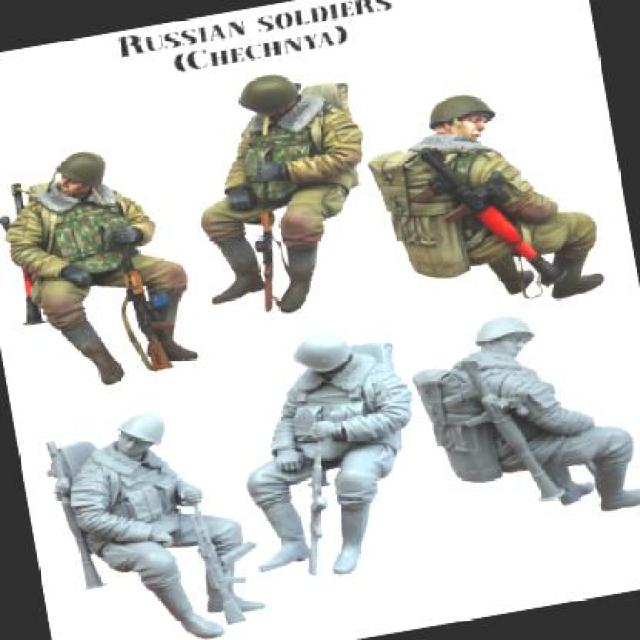MIL_Pax: (358, 69, 605, 329), (20, 392, 275, 638), (397, 294, 638, 551), (219, 318, 441, 596), (171, 55, 389, 328), (0, 131, 208, 400)
